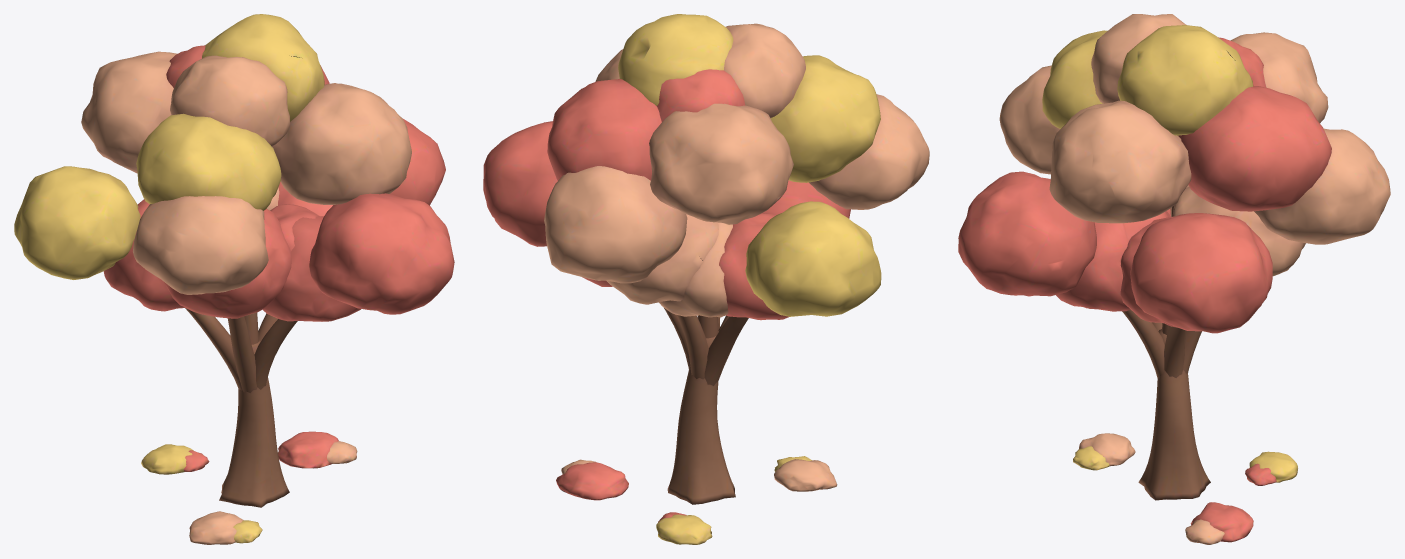
Rendered from autumn-tree.glb.
3 renders of one model, left to right at view 1: azimuth 30°, elevation 25°; view 2: azimuth 150°, elevation 25°; view 3: azimuth 270°, elevation 25°, orthographic.
Visible parts, largest first — view 1: autumn-tree_body; view 2: autumn-tree_body; view 3: autumn-tree_body.
Boxes of the visible parts, x1=… form: autumn-tree_body: x1=14, y1=14, x2=454, y2=544; autumn-tree_body: x1=483, y1=14, x2=929, y2=544; autumn-tree_body: x1=958, y1=14, x2=1390, y2=544.
Bounding box in the file's own units: 5.71 × 6.37 × 5.39.
Materials: 1 (1 with a texture image).
